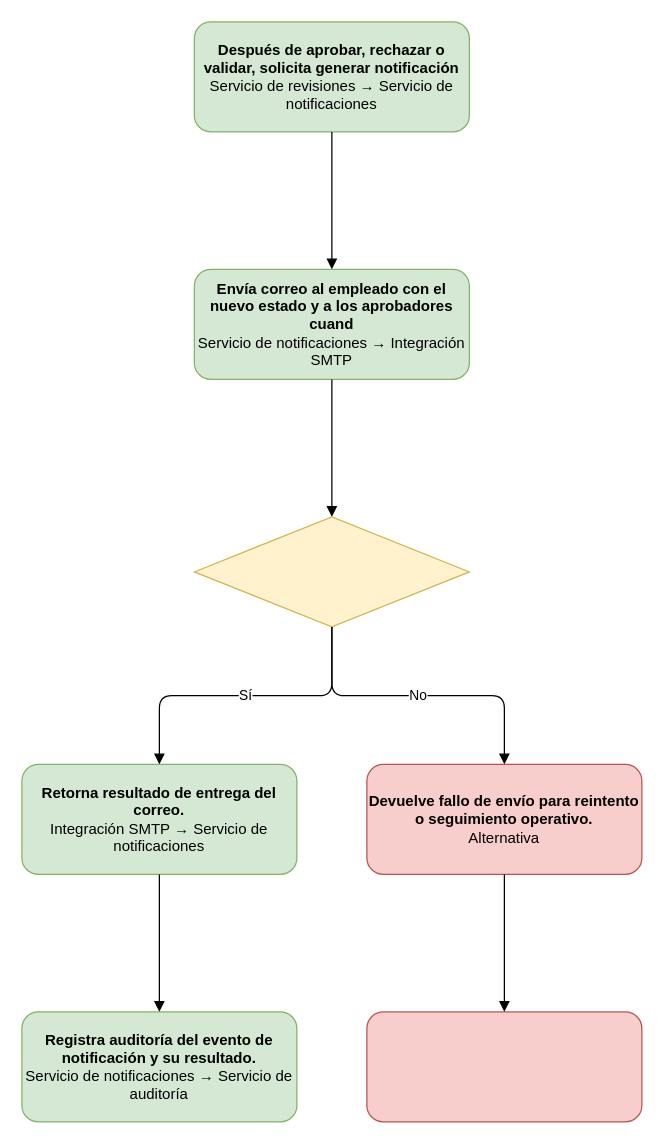
Image size: 664x1144. Some labels were removed from this diagram. The centre of each missing label's shape, as x and y in pixels:
El servidor SMTP no está disponible o rechaza el envío. Decisión: point (331, 571)
Registra el intento fallido y el motivo técnico. Alternativa: point (504, 1066)
